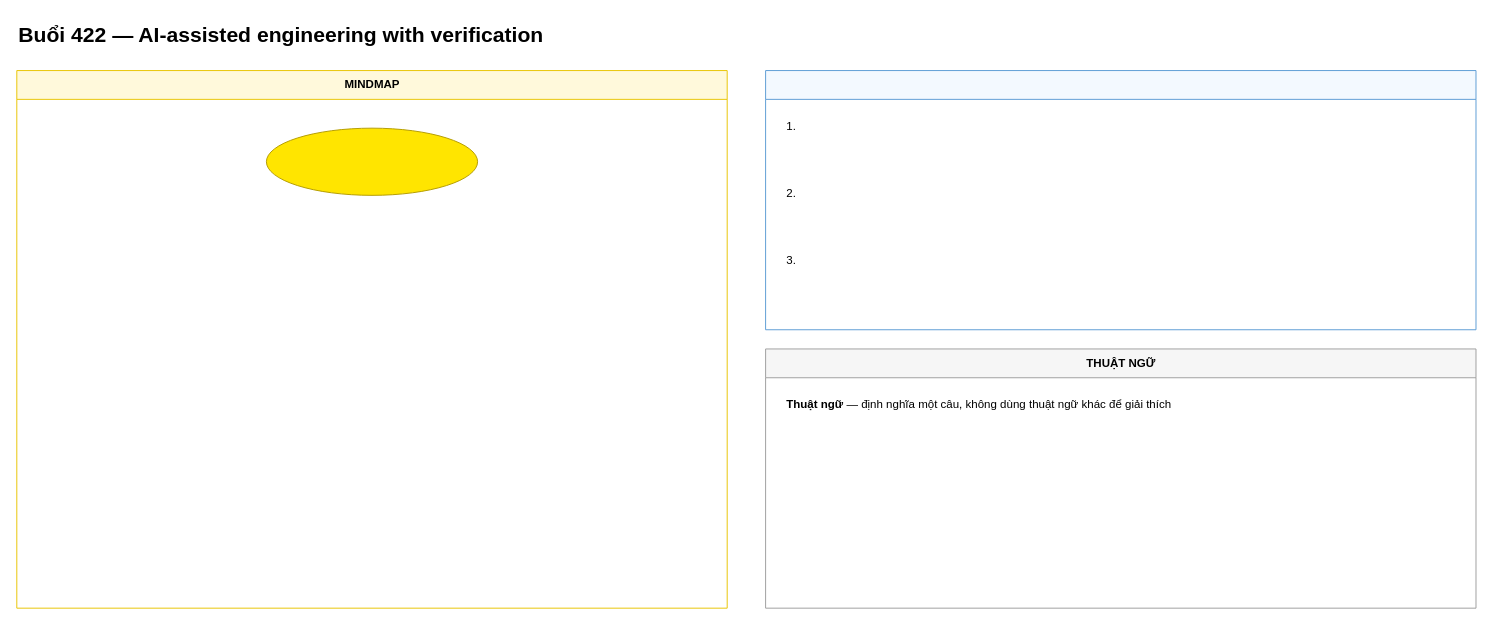
The diagram is 1493 pixels wide and 625 high, and some of its shapes have lost their labels. The box of each missing label's shape, as (x1, y1, x2, y2) in pixels:
AI-assisted engineering with verification: (265, 127, 478, 195)
KEY TAKEAWAY — ba điều phải nhớ: (765, 70, 1476, 330)
